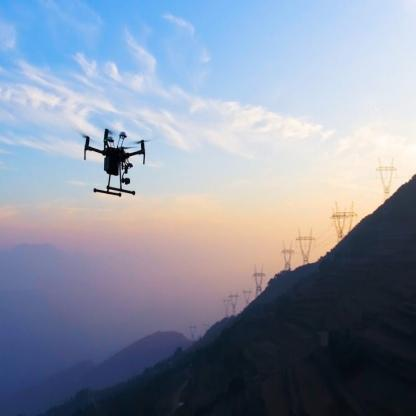drone: (76, 119, 146, 190)
